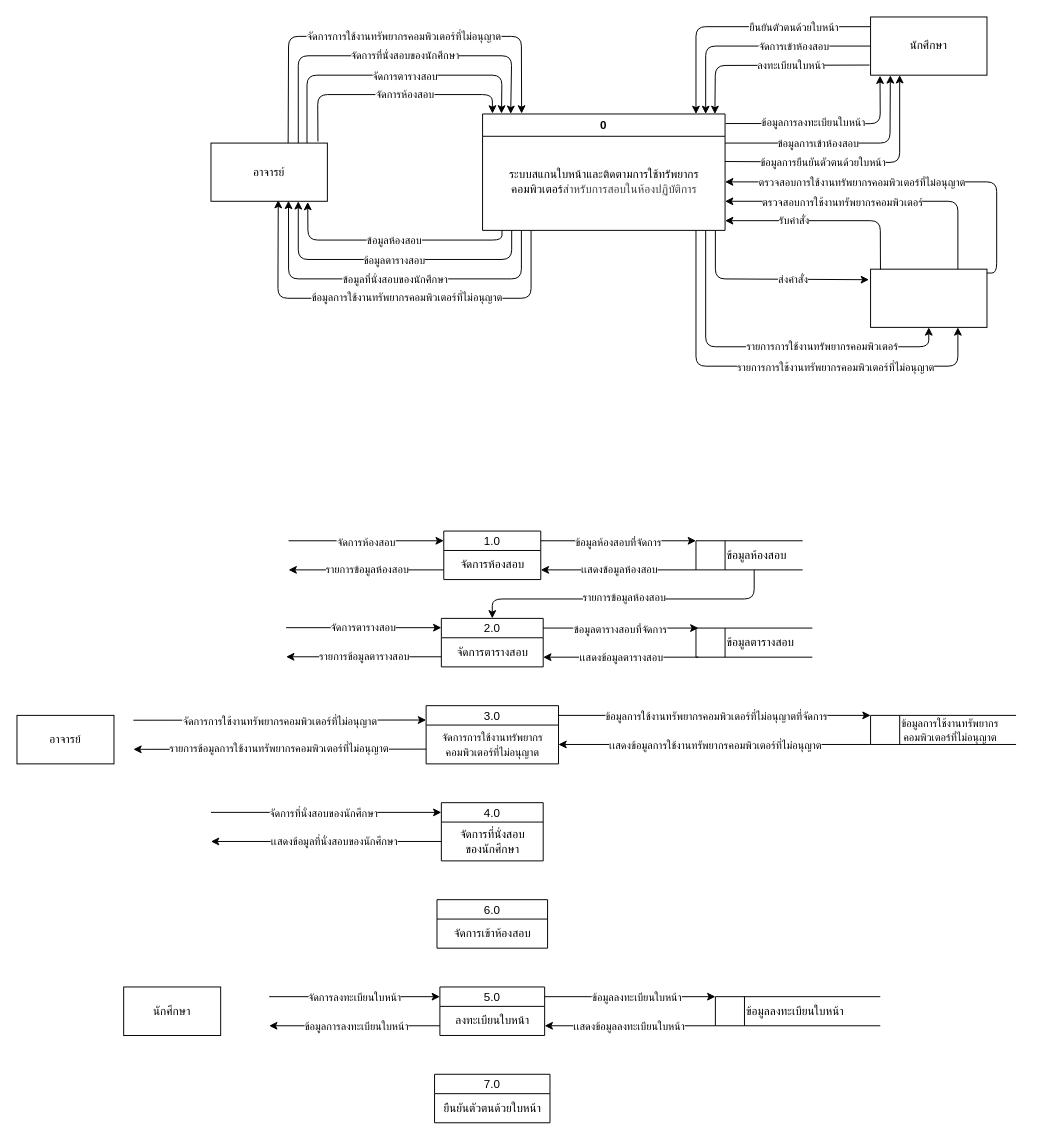
Some shapes in this 1052 by 1140 pixel diagram are drawn without their labels. The shapes that lost their labels are listed below. From the top down, each one's box as (x1, y1, x2, y2) in pixels, then its label:
(870, 268, 987, 327): Agent
(695, 540, 803, 570): D1
(695, 627, 812, 657): D2
(870, 714, 1016, 744): D3
(714, 996, 880, 1026): D4
